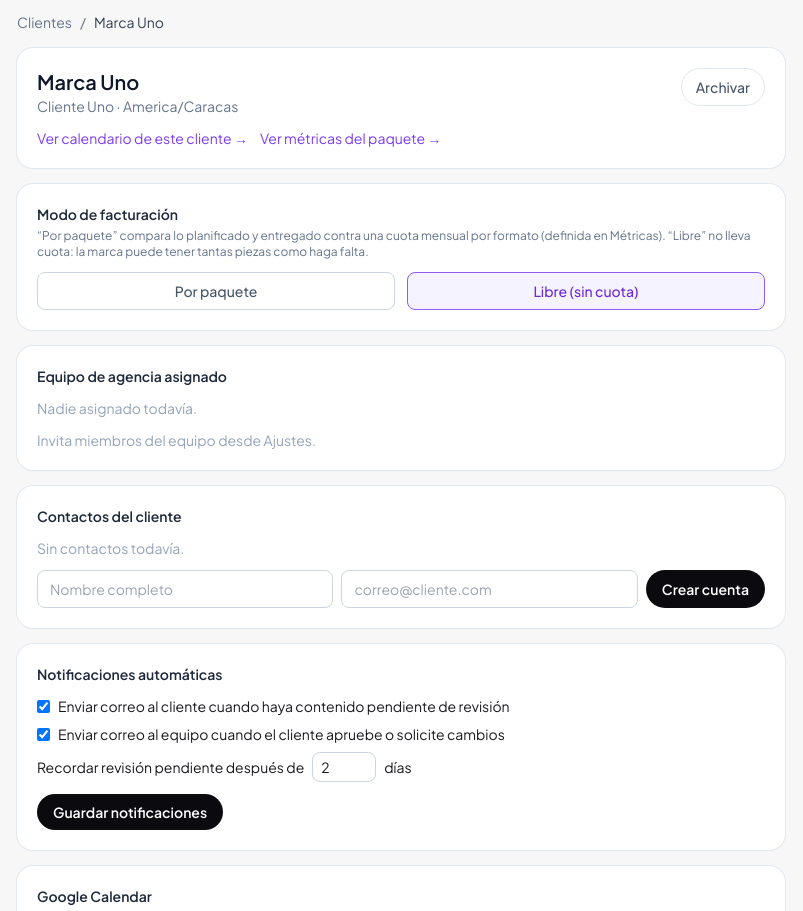
Scenario: ClientDetail — panel de la clave generada al crear un contacto › tras crear la cuenta muestra el correo, la clave y el aviso de que no se vuelve a mostrar
The width and height of the screenshot is (803, 911).
Expected: the text "Ns8#vKq5mRt2wZb7yPcJ" is not shown
Type "Carla Cliente" into the field with placeholder "Nombre completo" at (185, 589), box x1=37 y1=570 x2=333 y2=608
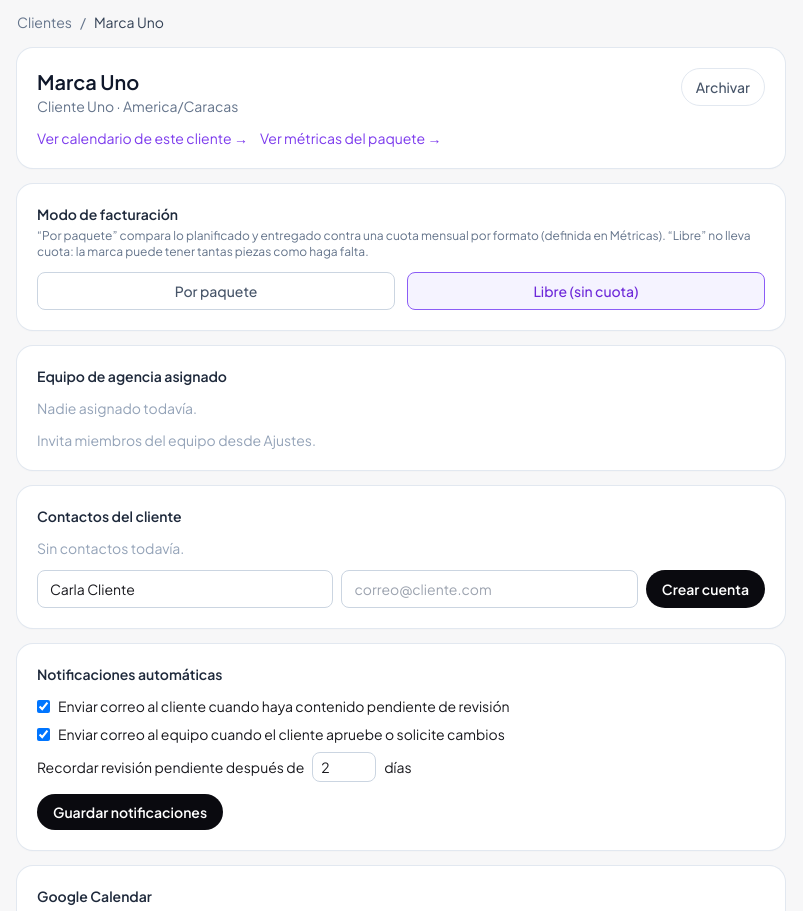
Type "contacto@cliente.test" into the field with placeholder "correo@cliente.com" at (490, 589), box x1=341 y1=570 x2=638 y2=608
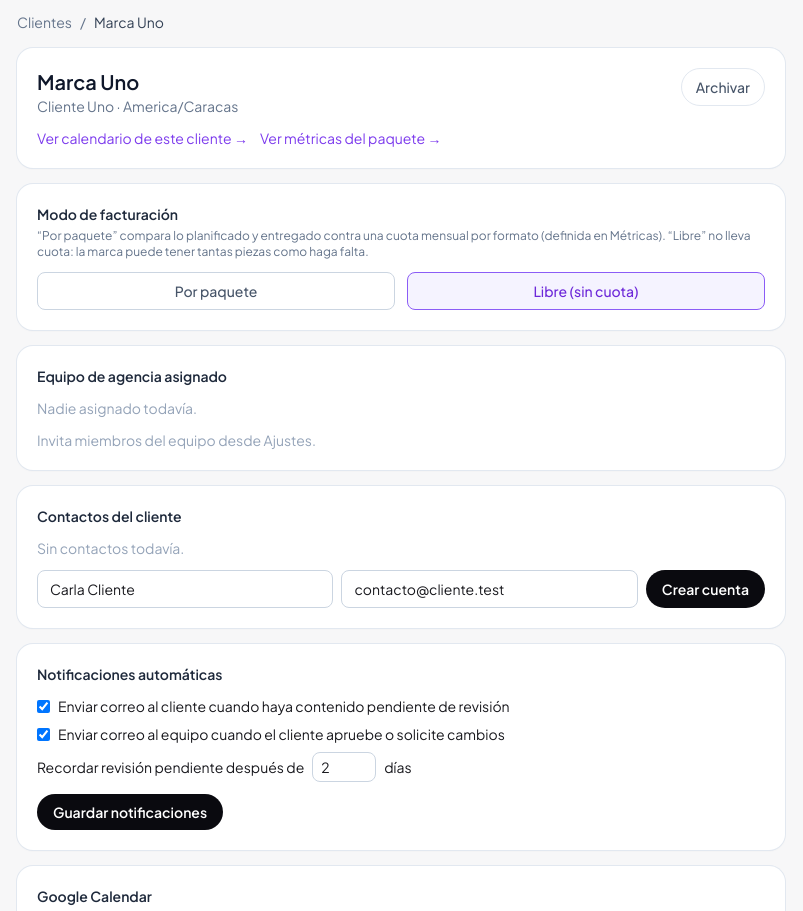
Click the button "Crear cuenta" at (705, 589), box x1=646 y1=570 x2=765 y2=608
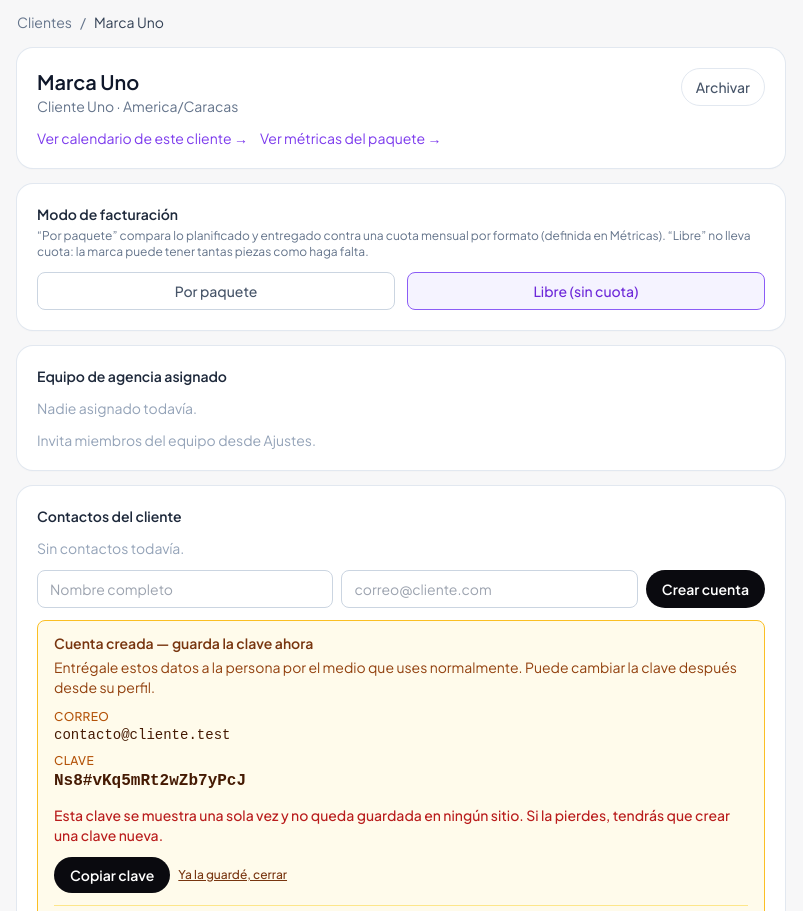
Expected: the text "Ns8#vKq5mRt2wZb7yPcJ" is shown, x1=54 y1=772 x2=246 y2=790
Expected: the text "contacto@cliente.test" is shown, x1=54 y1=727 x2=230 y2=743
Expected: the text "se muestra una sola vez" is shown, x1=54 y1=806 x2=730 y2=844
